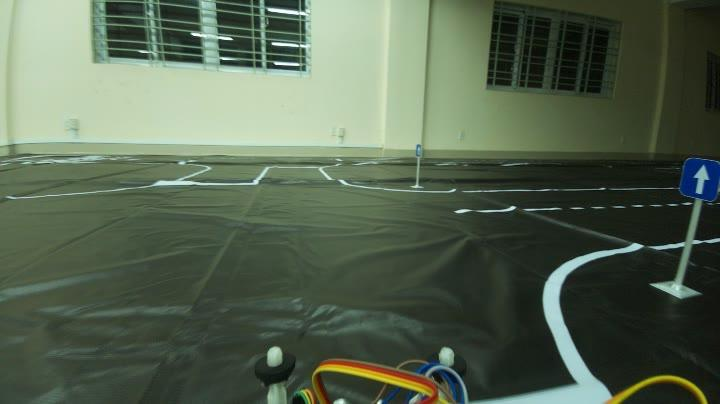onewayroad: (678, 158, 719, 204), (411, 144, 428, 160)
